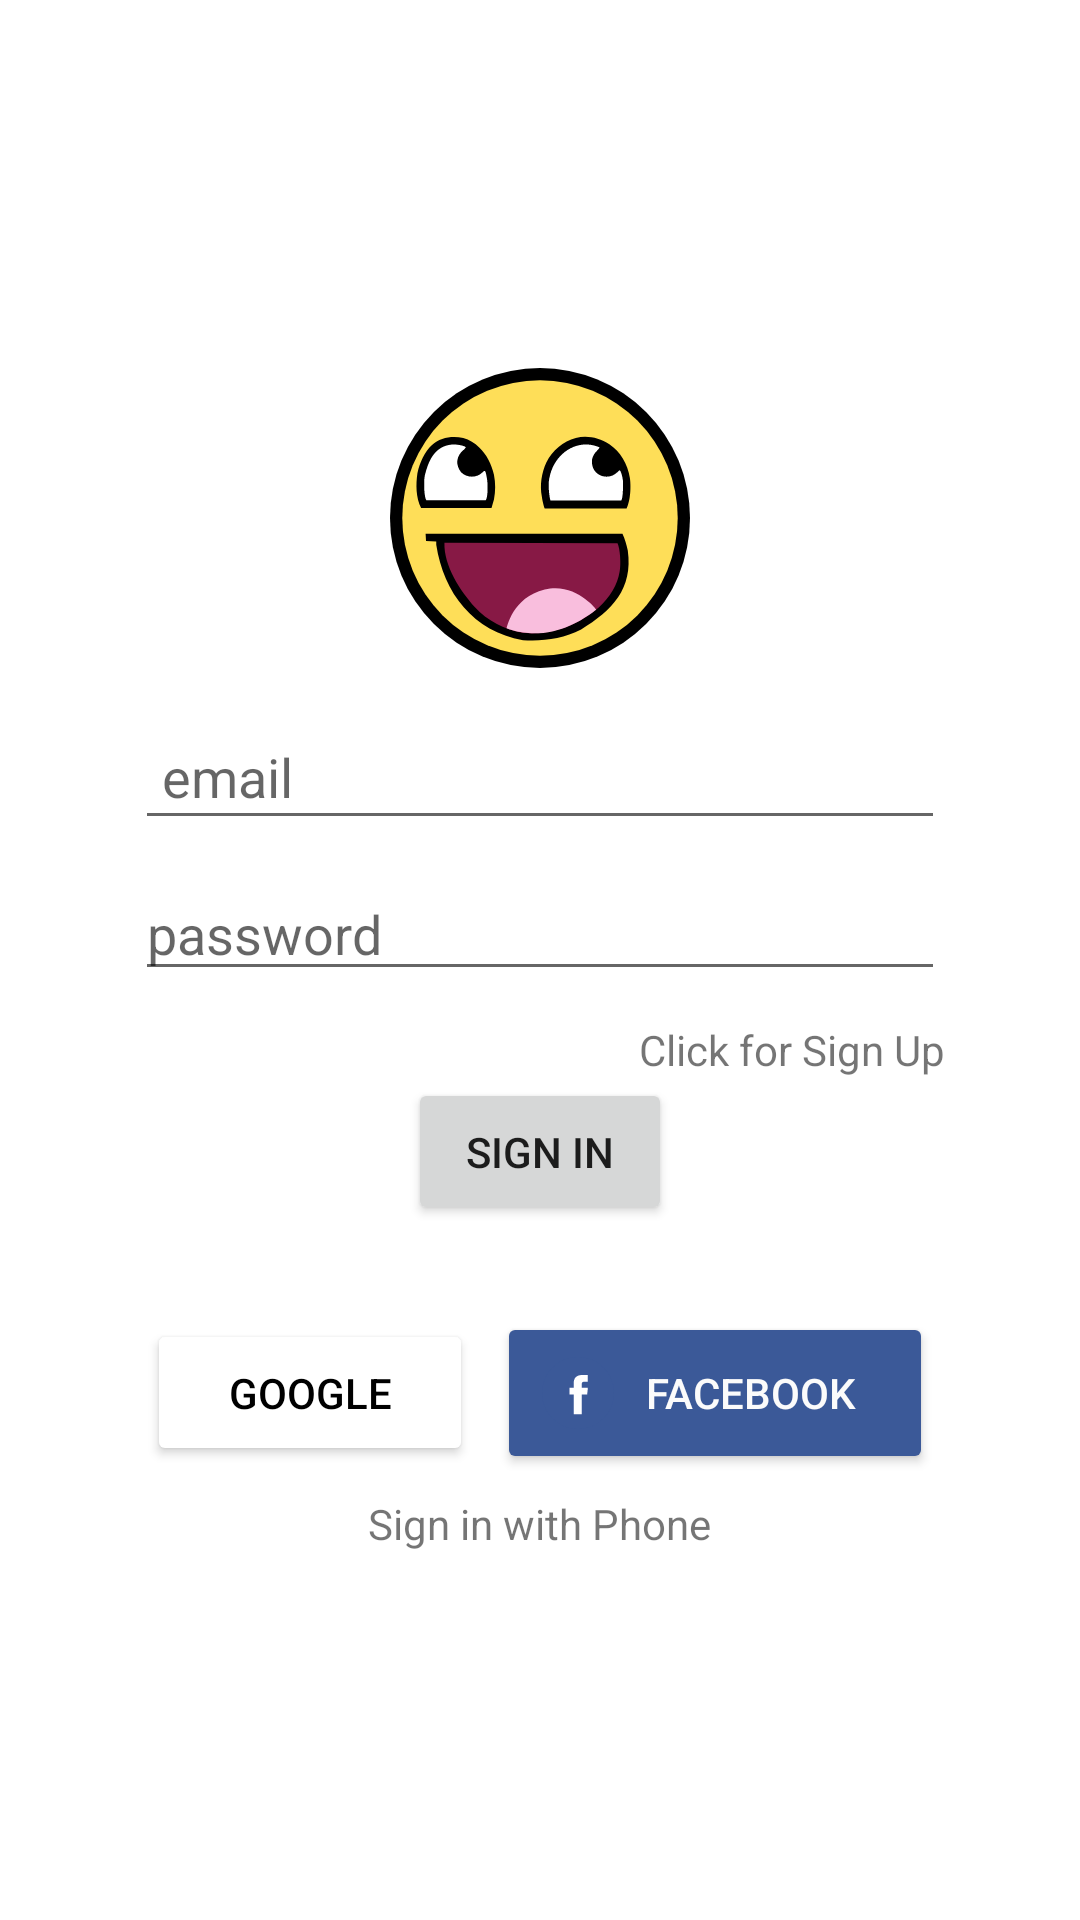

Screen size 1080px×1920px. Icon name, then its center in pixels as point (x, y):
smiley: point (540, 518)
